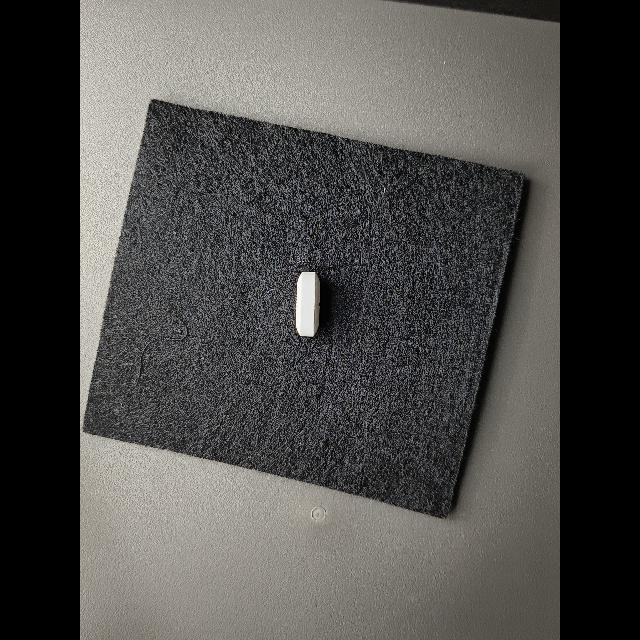Intact Pill: (295, 272, 320, 336)
